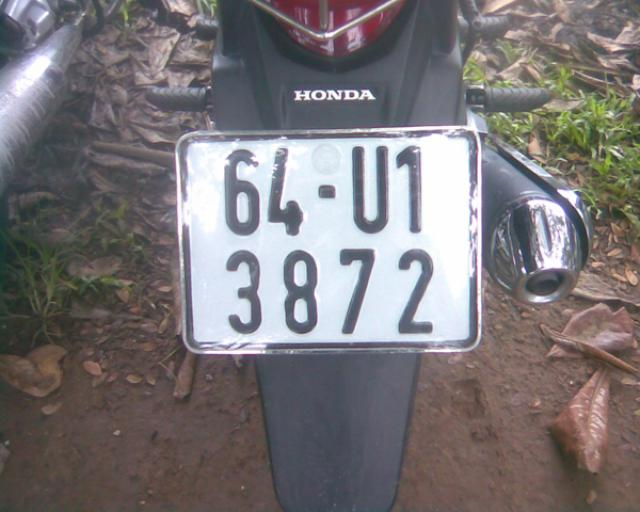plate: (170, 127, 482, 353)
